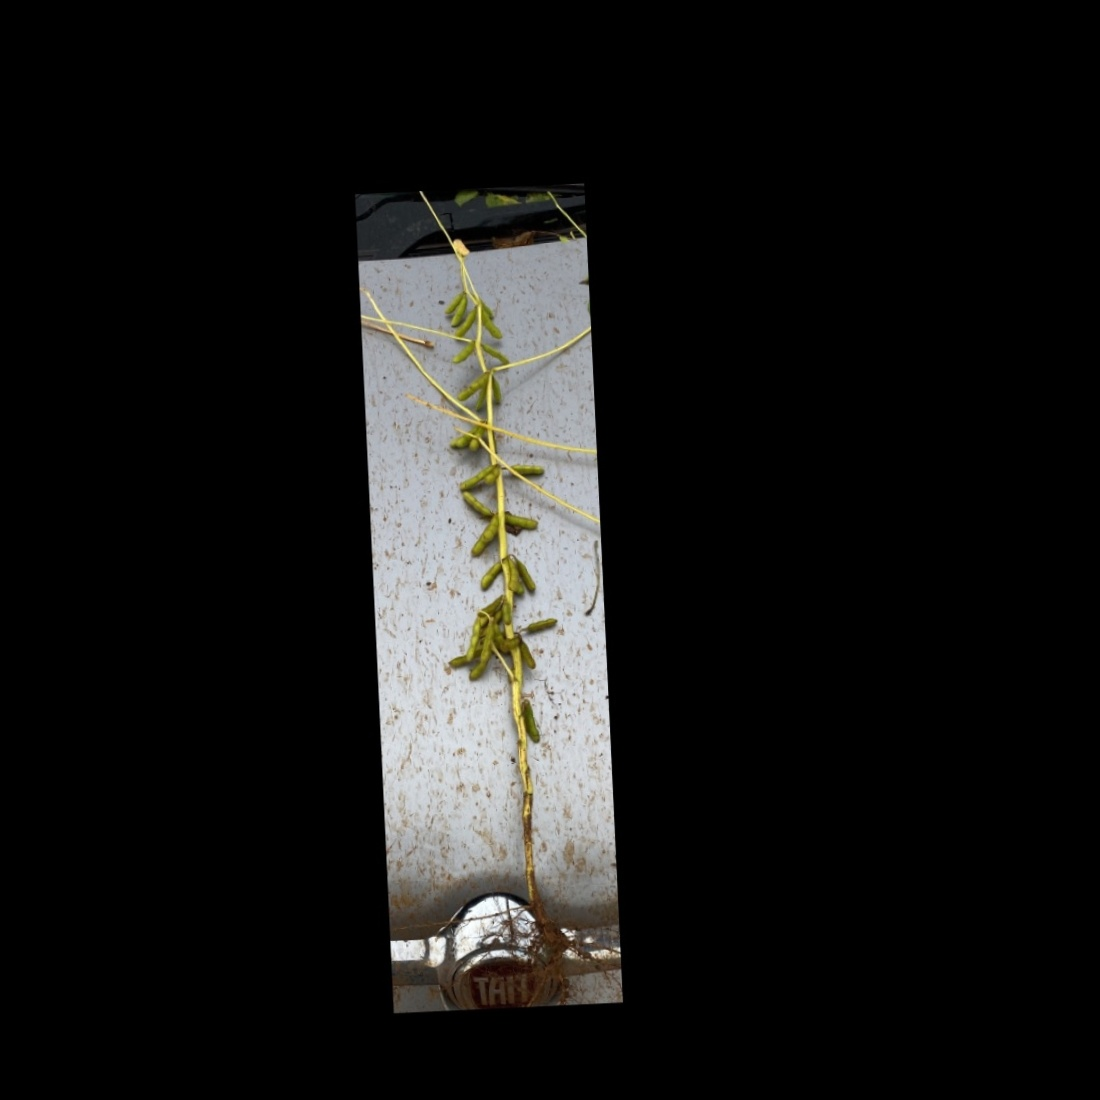pod: (478, 307, 509, 343), (520, 698, 543, 744), (474, 559, 503, 595), (460, 491, 497, 519), (504, 508, 544, 532), (449, 336, 478, 369), (479, 342, 512, 367), (503, 461, 547, 477), (522, 616, 561, 635), (521, 640, 537, 671), (489, 375, 502, 409)
soy: (418, 273, 596, 980)
